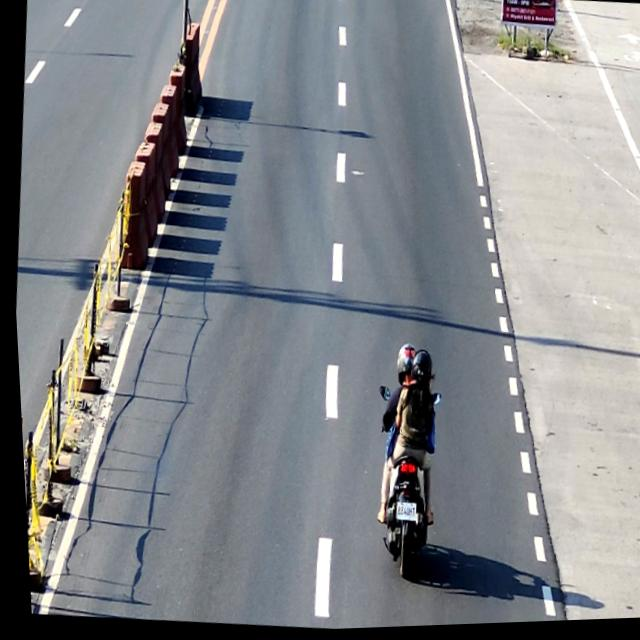License-Plate: (389, 504, 410, 524)
Motorcycle: (358, 384, 445, 584)
